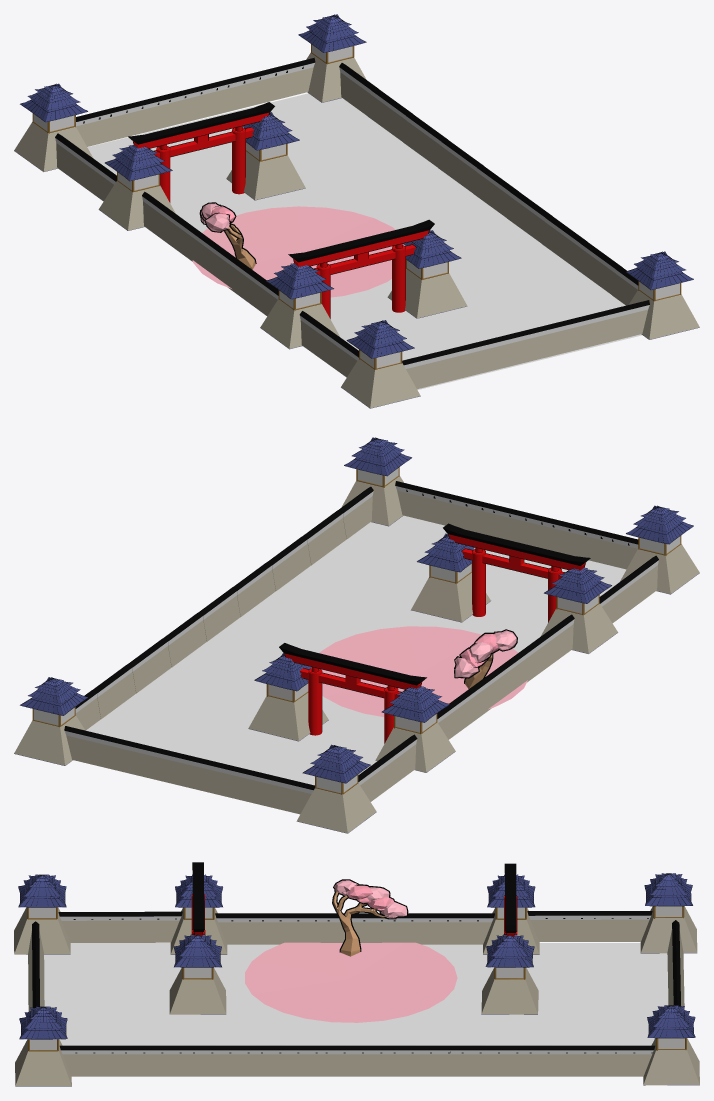
The model's file is japanesemapsmall.fbx.
The picture shows the model from 3 angles, top to bottom: view 1: azimuth 30°, elevation 25°; view 2: azimuth 150°, elevation 25°; view 3: azimuth 270°, elevation 25°; orthographic projection. The views are drawn at different scales.
Visible parts, largest first — view 1: Plane, SakuraCircle, Wallhub.013|Roof1|Dupli|, Tori|Paintable1|Dupli|, Tori.001|Paintable1|Dupli|, Wallhub.014|Roof1|Dupli|, Wallhub.004|Roof1|Dupli|, Wallhub.008|Roof1|Dupli|, Wallhub.003|Roof1|Dupli|, Wallhub.005|Roof1|Dupli|, Wallhub.006|Roof1|Dupli|, Wallhub.007|Roof1|Dupli| (+28 smaller); view 2: Plane, SakuraCircle, Tori|Paintable1|Dupli|, Wallhub.008|Roof1|Dupli|, Tori.001|Paintable1|Dupli|, Wallhub.007|Roof1|Dupli|, Wallhub.013|Roof1|Dupli|, Wallhub.005|Roof1|Dupli|, Wallhub.006|Roof1|Dupli|, Wallhub.004|Roof1|Dupli|, Wallhub.003|Roof1|Dupli|, Wallhub.014|Roof1|Dupli| (+28 smaller); view 3: Plane, SakuraCircle, Wallhub.004|Roof1|Dupli|, Wallhub.003|Roof1|Dupli|, Wallhub.014|Roof1|Dupli|, Wallhub.007|Roof1|Dupli|, Wallhub.013|Roof1|Dupli|, Wallhub.008|Roof1|Dupli|, Sakura|Leaves|Dupli|, Wall.010|Windows|Dupli|, Wall.011|Windows|Dupli|, Wall.020|Windows|Dupli| (+23 smaller).
Part boxes in pixels (<box>): Plane: <box>87,93,642,389</box>; SakuraCircle: <box>192,206,405,297</box>; Wallhub.013|Roof1|Dupli|: <box>341,320,420,408</box>; Tori|Paintable1|Dupli|: <box>128,102,274,202</box>; Tori.001|Paintable1|Dupli|: <box>288,219,434,318</box>; Wallhub.014|Roof1|Dupli|: <box>626,251,699,339</box>; Wallhub.004|Roof1|Dupli|: <box>387,230,467,318</box>; Wallhub.008|Roof1|Dupli|: <box>14,83,93,171</box>; Wallhub.003|Roof1|Dupli|: <box>226,112,305,200</box>; Wallhub.005|Roof1|Dupli|: <box>98,145,175,230</box>; Wallhub.006|Roof1|Dupli|: <box>260,263,339,349</box>; Wallhub.007|Roof1|Dupli|: <box>298,14,366,102</box>; Plane: <box>86,515,626,785</box>; SakuraCircle: <box>311,626,527,716</box>; Tori|Paintable1|Dupli|: <box>279,643,426,743</box>; Wallhub.008|Roof1|Dupli|: <box>296,744,376,833</box>; Tori.001|Paintable1|Dupli|: <box>443,523,590,622</box>; Wallhub.007|Roof1|Dupli|: <box>14,677,87,765</box>; Wallhub.013|Roof1|Dupli|: <box>620,505,699,594</box>; Wallhub.005|Roof1|Dupli|: <box>375,686,455,772</box>; Wallhub.006|Roof1|Dupli|: <box>540,567,617,653</box>; Wallhub.004|Roof1|Dupli|: <box>411,533,490,622</box>; Wallhub.003|Roof1|Dupli|: <box>248,653,328,741</box>; Wallhub.014|Roof1|Dupli|: <box>341,437,411,526</box>; Plane: <box>44,943,668,1045</box>; SakuraCircle: <box>245,942,457,1022</box>; Wallhub.004|Roof1|Dupli|: <box>169,934,226,1014</box>; Wallhub.003|Roof1|Dupli|: <box>481,934,538,1014</box>; Wallhub.014|Roof1|Dupli|: <box>15,1006,71,1086</box>; Wallhub.007|Roof1|Dupli|: <box>643,1005,699,1085</box>; Wallhub.013|Roof1|Dupli|: <box>14,874,70,954</box>; Wallhub.008|Roof1|Dupli|: <box>640,873,697,953</box>; Sakura|Leaves|Dupli|: <box>332,879,408,956</box>; Wall.010|Windows|Dupli|: <box>455,1045,523,1076</box>; Wall.011|Windows|Dupli|: <box>387,1045,455,1076</box>; Wall.020|Windows|Dupli|: <box>319,1045,387,1076</box>.
Bounding box in the file's own units: 2425 × 1315 × 345.
